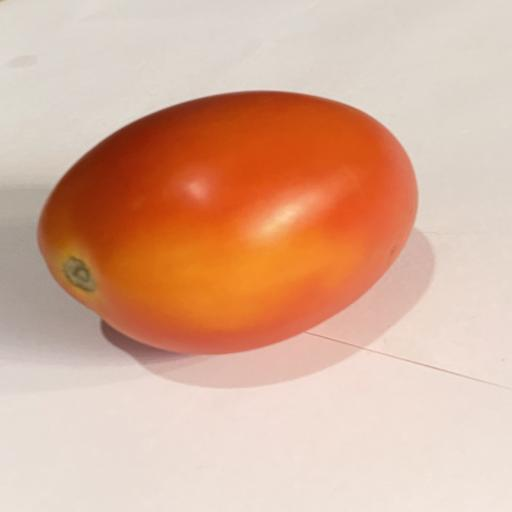ripe: (38, 91, 418, 354)
